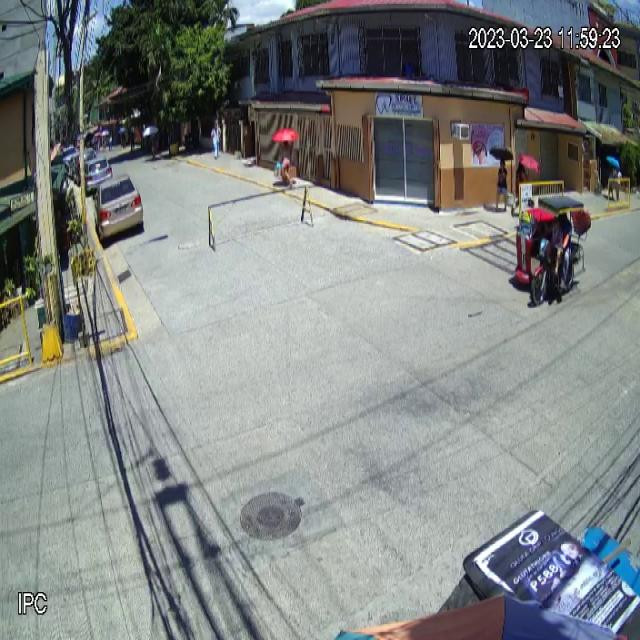Car: (92, 172, 144, 241)
Tricycle: (514, 194, 591, 308)
